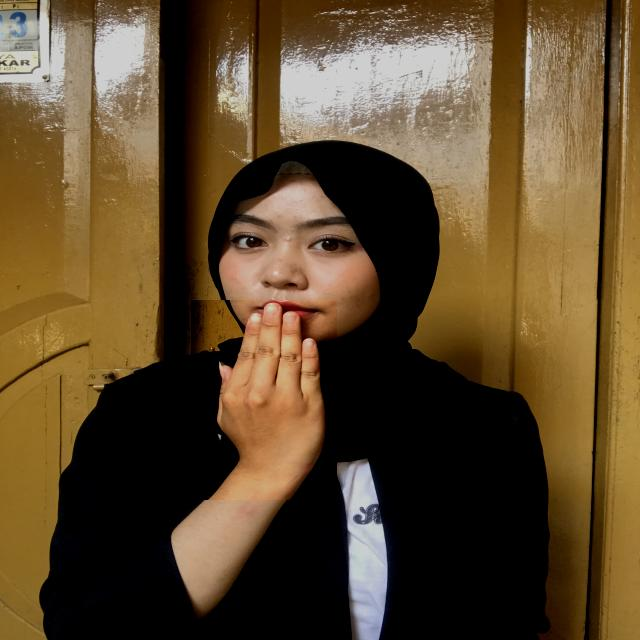ganteng: (190, 300, 336, 500)
